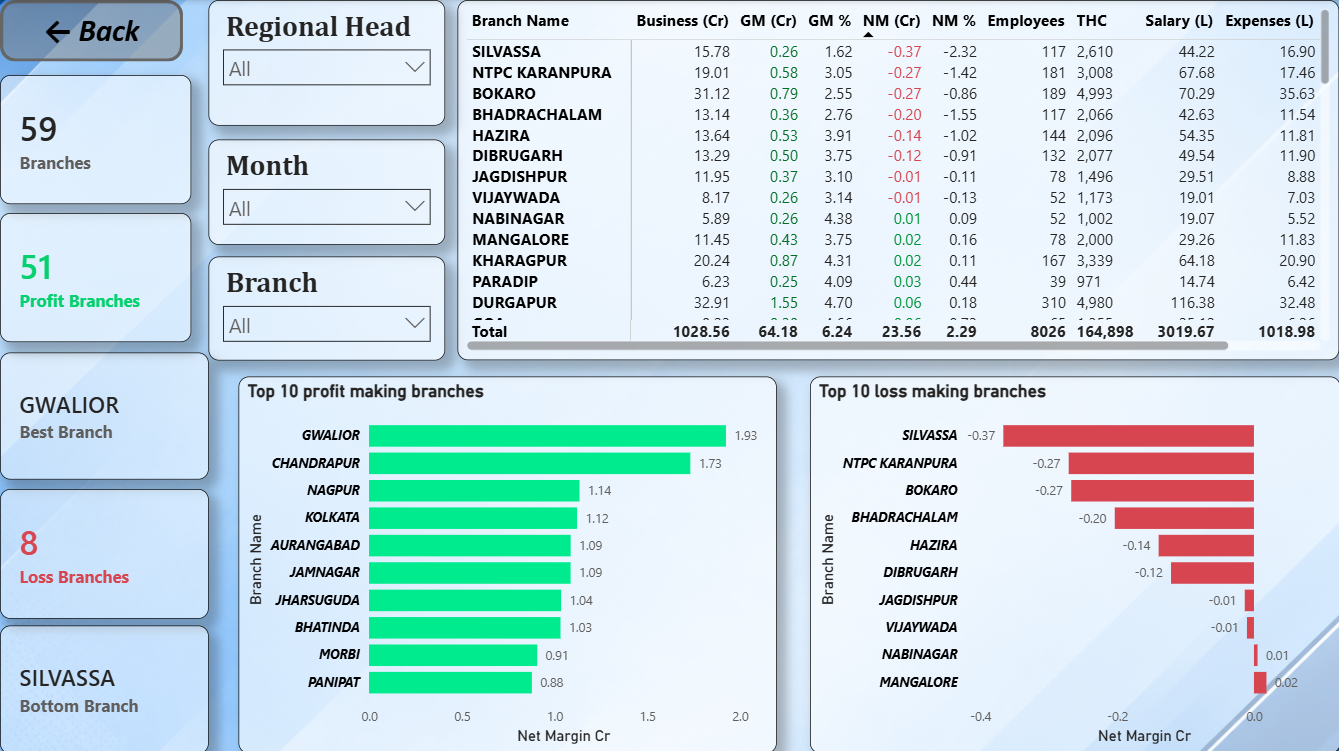

Layout of this report page (visuals, bound fields, positions):
{"tool":"powerbi","page":{"name":"Branch Analysis","canvas":[1280,720],"ordinal":1},"visuals":[{"type":"cardVisual","fields":{"Data":["Measure Table.Branch Count"]},"box":[0,71.6,182.6,123.5],"z":0},{"type":"slicer","fields":{"Values":["Calendar.Month Year"]},"box":[199.6,133.5,225.7,100.5],"z":1000},{"type":"slicer","fields":{"Values":["BranchData.Branch Name "]},"box":[199.6,245,225.7,99.1],"z":2000},{"type":"cardVisual","fields":{"Data":["Measure Table.Best Branch"]},"box":[0,337.2,199.6,121.1],"z":3000},{"type":"cardVisual","fields":{"Data":["Measure Table.Loss Branches"]},"box":[0,466.6,199.6,123.9],"z":4000},{"type":"cardVisual","fields":{"Data":["Measure Table.Profit Branches"]},"box":[0,204.1,182.6,123.5],"z":5000},{"type":"cardVisual","fields":{"Data":["Measure Table.Worst Branch"]},"box":[0,597.3,199.6,122.5],"z":6000},{"type":"clusteredBarChart","title":"Top 10 profit making branches","fields":{"Category":["BranchData.Branch Name "],"Y":["Measure Table.Net Margin Cr"]},"box":[227.4,359.8,513.8,359.8],"z":7000},{"type":"clusteredBarChart","title":"Top 10 loss making branches","fields":{"Category":["BranchData.Branch Name "],"Y":["Measure Table.Net Margin Cr"]},"box":[773.4,359.8,506.6,359.8],"z":8000},{"type":"pivotTable","fields":{"Rows":["BranchData.Branch Name "],"Values":["Measure Table.Total Business Cr","Measure Table.Gross Margin Cr","Measure Table.GM %","Measure Table.Net Margin Cr","Measure Table.NM %","Measure Table.Current Employees","Measure Table.THC Display","Measure Table.Salary L","Measure Table.Expenses L","Sum(BranchData.Non Placement Penalty)"]},"box":[436.9,0,842.2,343.8],"z":9000},{"type":"actionButton","box":[0,0,174.9,58.8],"z":10000},{"type":"slicer","fields":{"Values":["BranchData.Regional Head"]},"box":[199.6,0,225.7,119.7],"z":10001}]}

Visuals, with their boxes in screenshot pixels (x1, y1, x2, y2), scaled from the page's 1280x720 canvas onto the 1339x751 screenshot:
cardVisual - Measure Table.Branch Count: x1=0 y1=75 x2=191 y2=204
slicer - Calendar.Month Year: x1=209 y1=139 x2=445 y2=244
slicer - BranchData.Branch Name : x1=209 y1=256 x2=445 y2=359
cardVisual - Measure Table.Best Branch: x1=0 y1=352 x2=209 y2=478
cardVisual - Measure Table.Loss Branches: x1=0 y1=487 x2=209 y2=616
cardVisual - Measure Table.Profit Branches: x1=0 y1=213 x2=191 y2=342
cardVisual - Measure Table.Worst Branch: x1=0 y1=623 x2=209 y2=750
"Top 10 profit making branches" clusteredBarChart: x1=238 y1=375 x2=775 y2=750
"Top 10 loss making branches" clusteredBarChart: x1=809 y1=375 x2=1338 y2=750
pivotTable - BranchData.Branch Name  x Measure Table.Total Business Cr: x1=457 y1=0 x2=1338 y2=359
actionButton: x1=0 y1=0 x2=183 y2=61
slicer - BranchData.Regional Head: x1=209 y1=0 x2=445 y2=125
